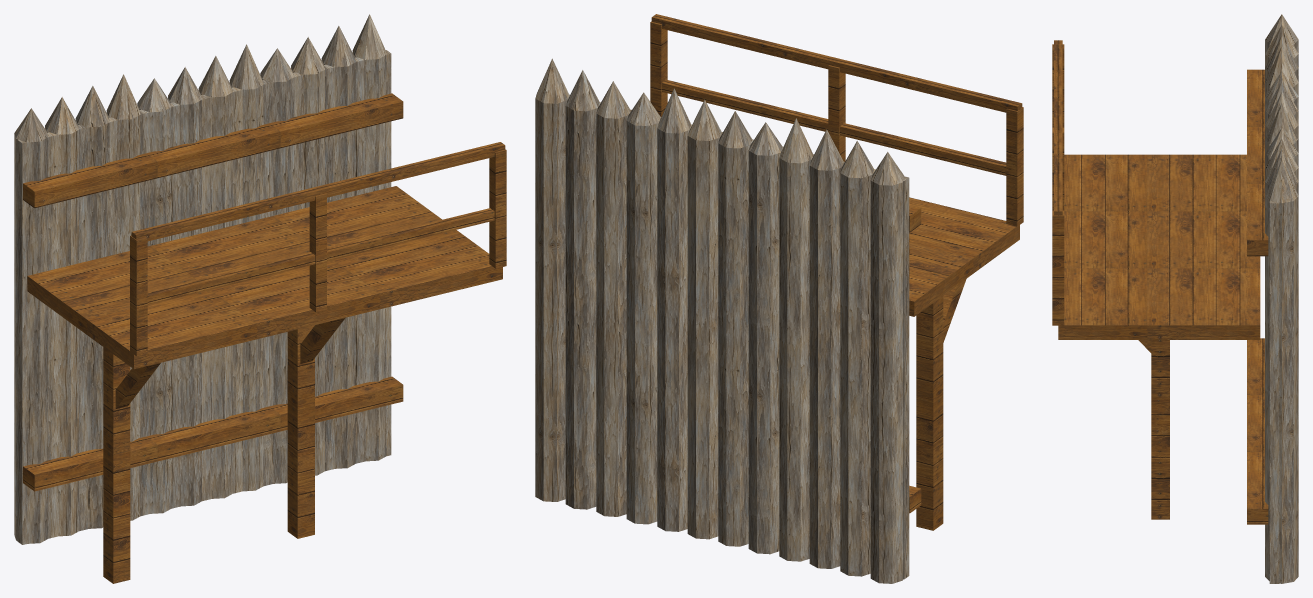
Rendered from frontier-stockade-3.gltf.
The picture shows the model from 3 angles, left to right: view 1: azimuth 30°, elevation 25°; view 2: azimuth 150°, elevation 25°; view 3: azimuth 270°, elevation 25°; orthographic projection. The views are drawn at different scales.
Parts seen in each view (by area): view 1: stockade-L0-log, walkway-L1-wood, structure-L0-wood, guards-L1-wood; view 2: stockade-L0-log, guards-L1-wood, walkway-L1-wood, structure-L0-wood; view 3: walkway-L1-wood, stockade-L0-log, structure-L0-wood, guards-L1-wood.
Part boxes in pixels (x1,y1,x2,y2): stockade-L0-log: (14,14,391,544); walkway-L1-wood: (27,186,502,369); structure-L0-wood: (23,93,403,583); guards-L1-wood: (130,142,506,356); stockade-L0-log: (535,58,909,583); guards-L1-wood: (650,14,1023,226); walkway-L1-wood: (909,197,1019,316); structure-L0-wood: (909,205,966,530); walkway-L1-wood: (1058,154,1260,339); stockade-L0-log: (1265,14,1298,583); structure-L0-wood: (1138,69,1268,524); guards-L1-wood: (1052,40,1064,325).
Size of the model in its own units: 3.01 by 3.42 by 1.83.
Materials: 2 (2 with a texture image).
